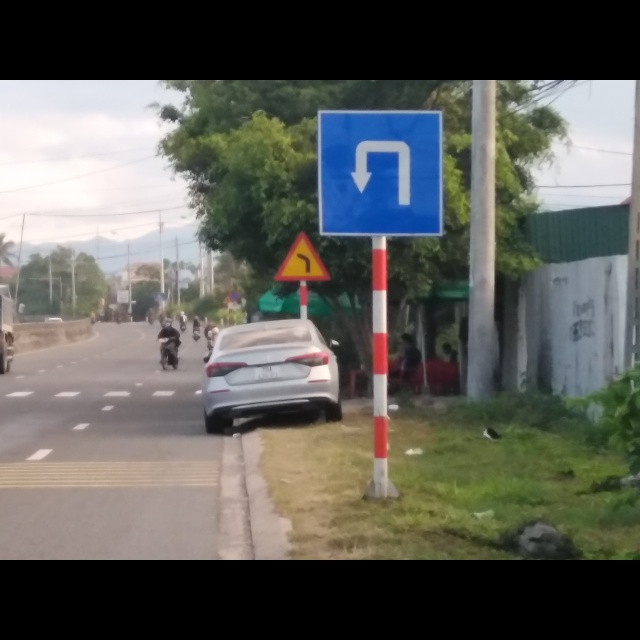Khu vực quay đầu xe: (315, 107, 447, 239)
